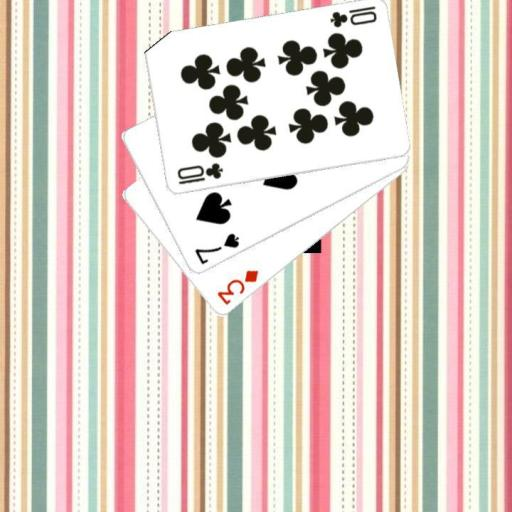10C: (174, 160, 225, 186), (327, 4, 379, 29)
3D: (214, 267, 261, 307)
7S: (191, 230, 241, 267)
